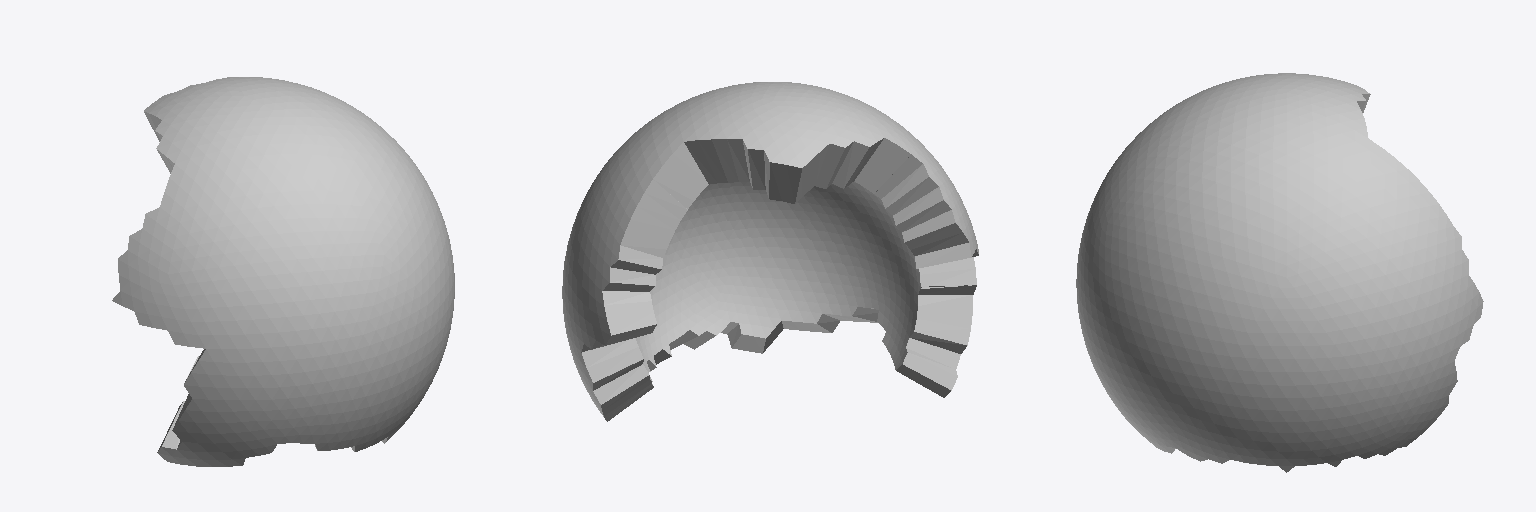
File: clouds_8.obj
3 renders of one model, left to right at view 1: azimuth 30°, elevation 25°; view 2: azimuth 150°, elevation 25°; view 3: azimuth 270°, elevation 25°, orthographic.
Parts seen in each view (by area): view 1: Icosphere.033; view 2: Icosphere.033; view 3: Icosphere.033.
Boxes of the visible parts, x1=… form: Icosphere.033: x1=112, y1=77, x2=454, y2=466; Icosphere.033: x1=562, y1=82, x2=978, y2=421; Icosphere.033: x1=1076, y1=73, x2=1483, y2=472.
Size of the model in its own units: 20.7 by 18.09 by 20.96.